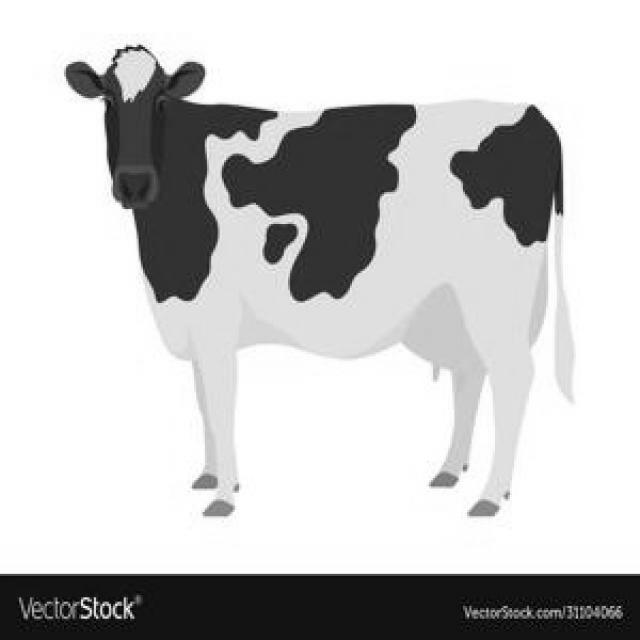cow: (66, 46, 562, 516), (556, 270, 572, 395)
